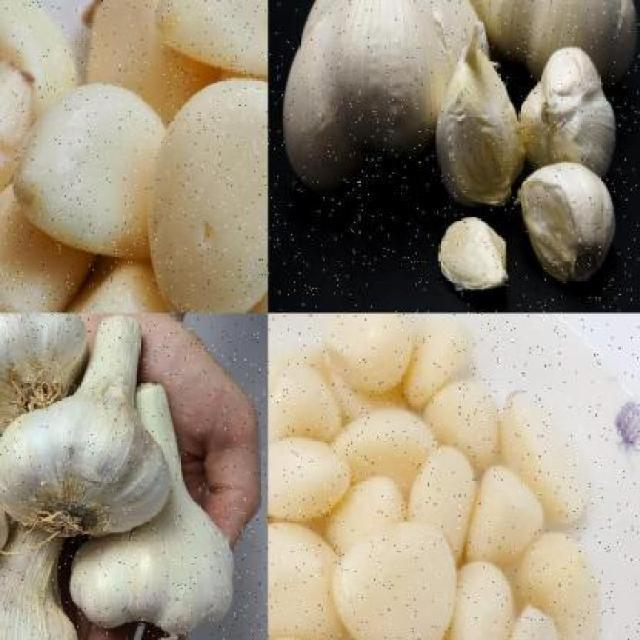garlic: (268, 313, 604, 639), (0, 0, 267, 312), (65, 384, 249, 636), (278, 0, 483, 195), (0, 315, 174, 543), (14, 78, 188, 263), (452, 0, 640, 82), (440, 41, 528, 204), (512, 158, 617, 284), (518, 52, 624, 172), (0, 312, 92, 445), (324, 405, 452, 495), (0, 512, 88, 640), (460, 466, 550, 572), (421, 378, 512, 472), (437, 214, 511, 297)
